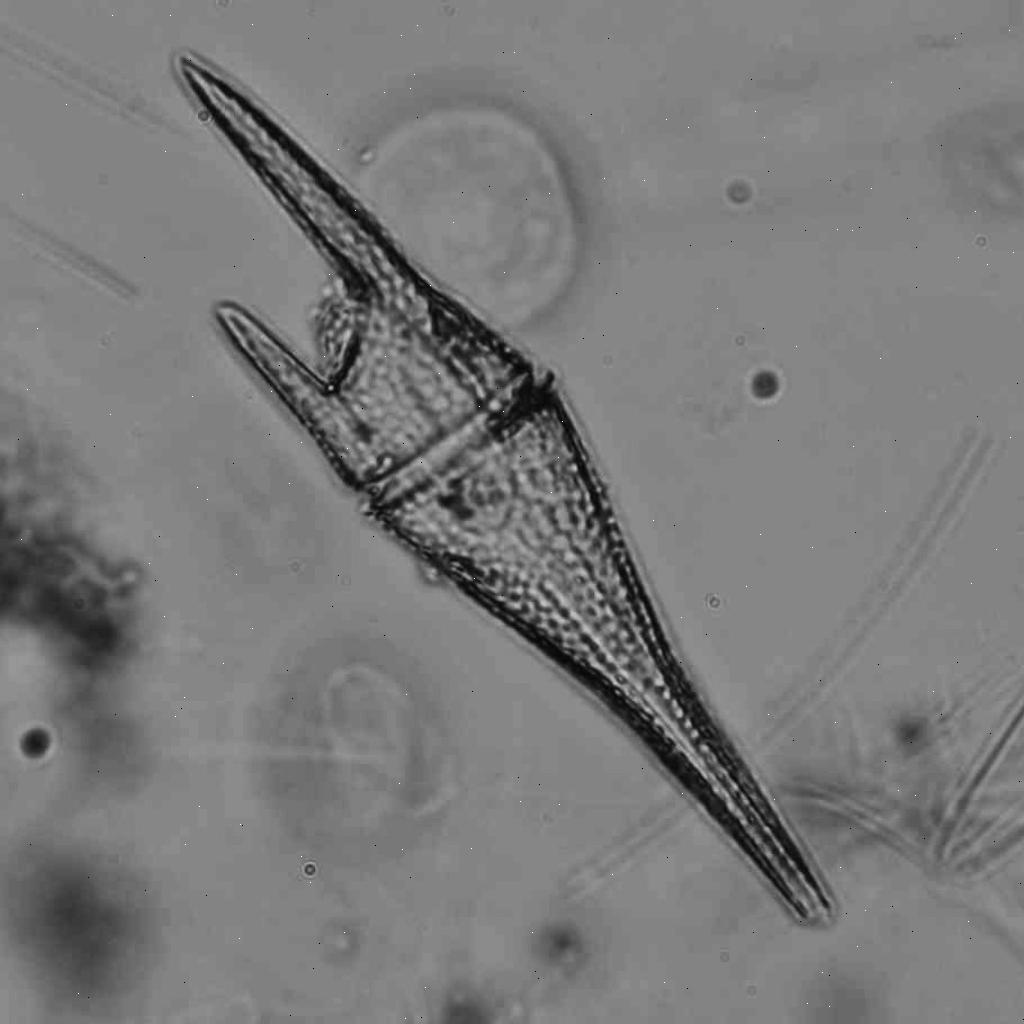ceratium_furca: (184, 59, 832, 923)
